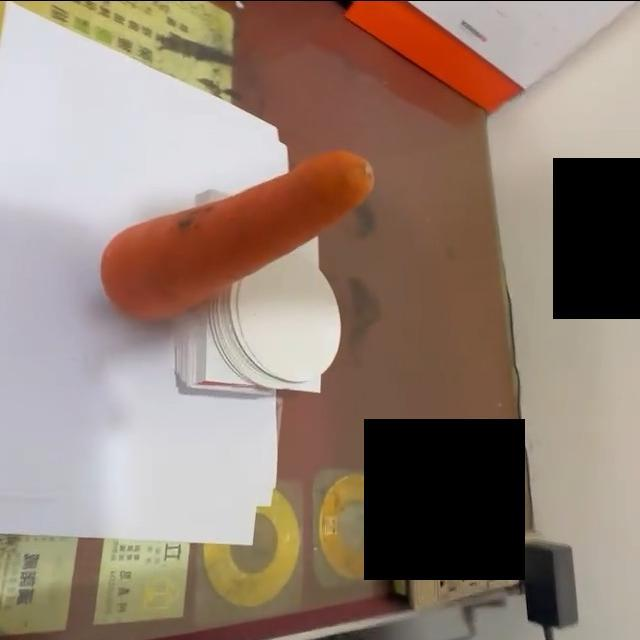carrot: (105, 151, 374, 317)
